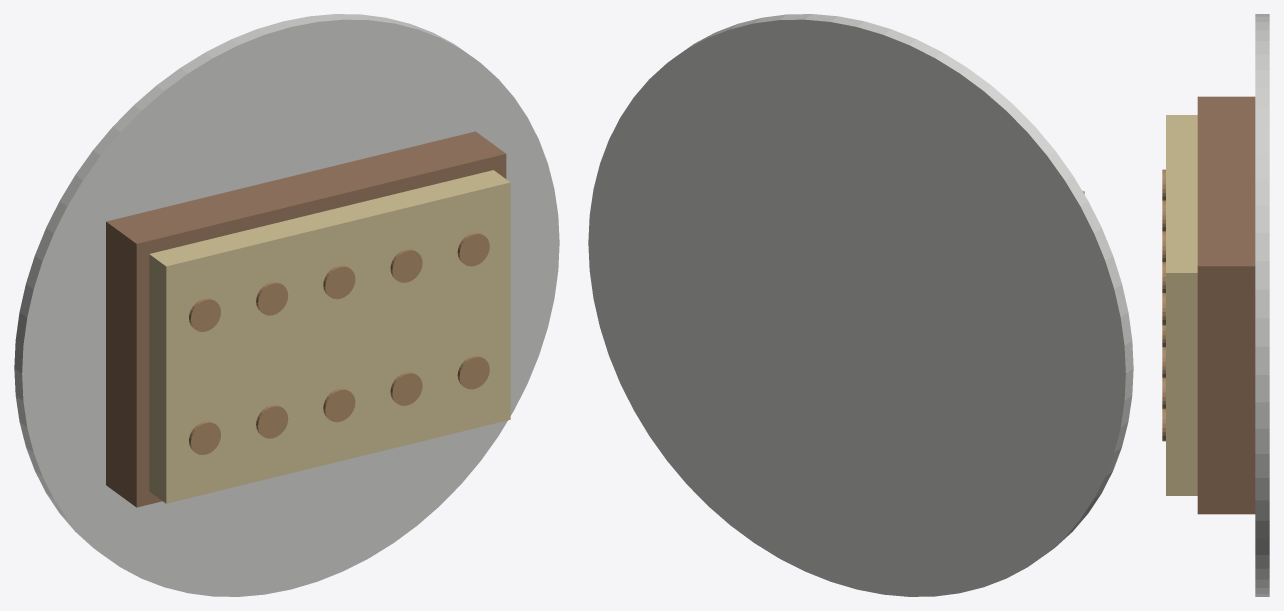
Rendered from pastel-pastores.glb.
3 renders of one model, left to right at view 1: azimuth 30°, elevation 25°; view 2: azimuth 150°, elevation 25°; view 3: azimuth 270°, elevation 25°, orthographic. The views are drawn at different scales.
Parts seen in each view (by area): view 1: world; view 2: world; view 3: world.
Part boxes in pixels (left/top/right/bottom): world: left=14, top=14, right=559, bottom=596; world: left=588, top=14, right=1133, bottom=596; world: left=1162, top=14, right=1269, bottom=596.
Size of the model in its own units: 0.32 by 0.32 by 0.059.
